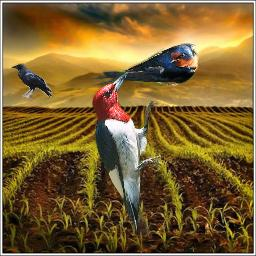Crow: (11, 63, 52, 98)
Swallow: (91, 43, 200, 86)
Woodpecker: (91, 72, 161, 237)
